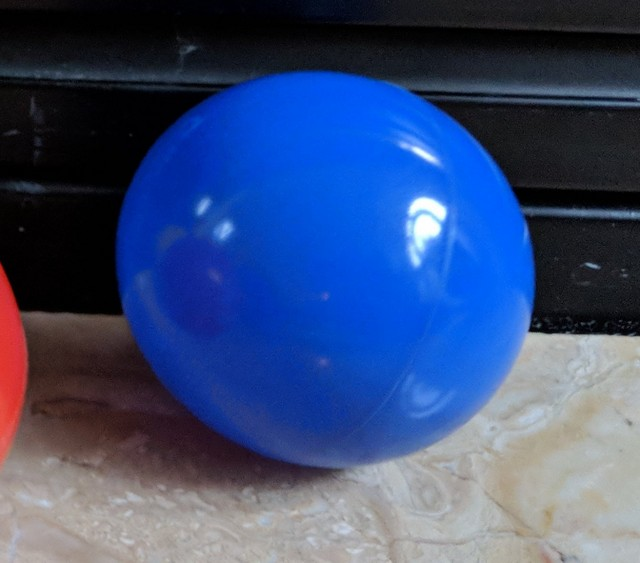ball: (111, 68, 539, 471)
